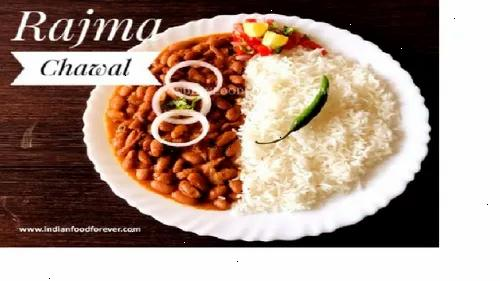rajma: (160, 49, 238, 225)
rice: (250, 64, 400, 204)
